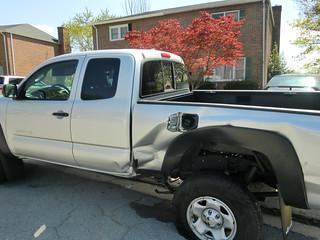doorouter-dent: (138, 109, 184, 175)
